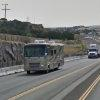Bus: (18, 34, 68, 77)
